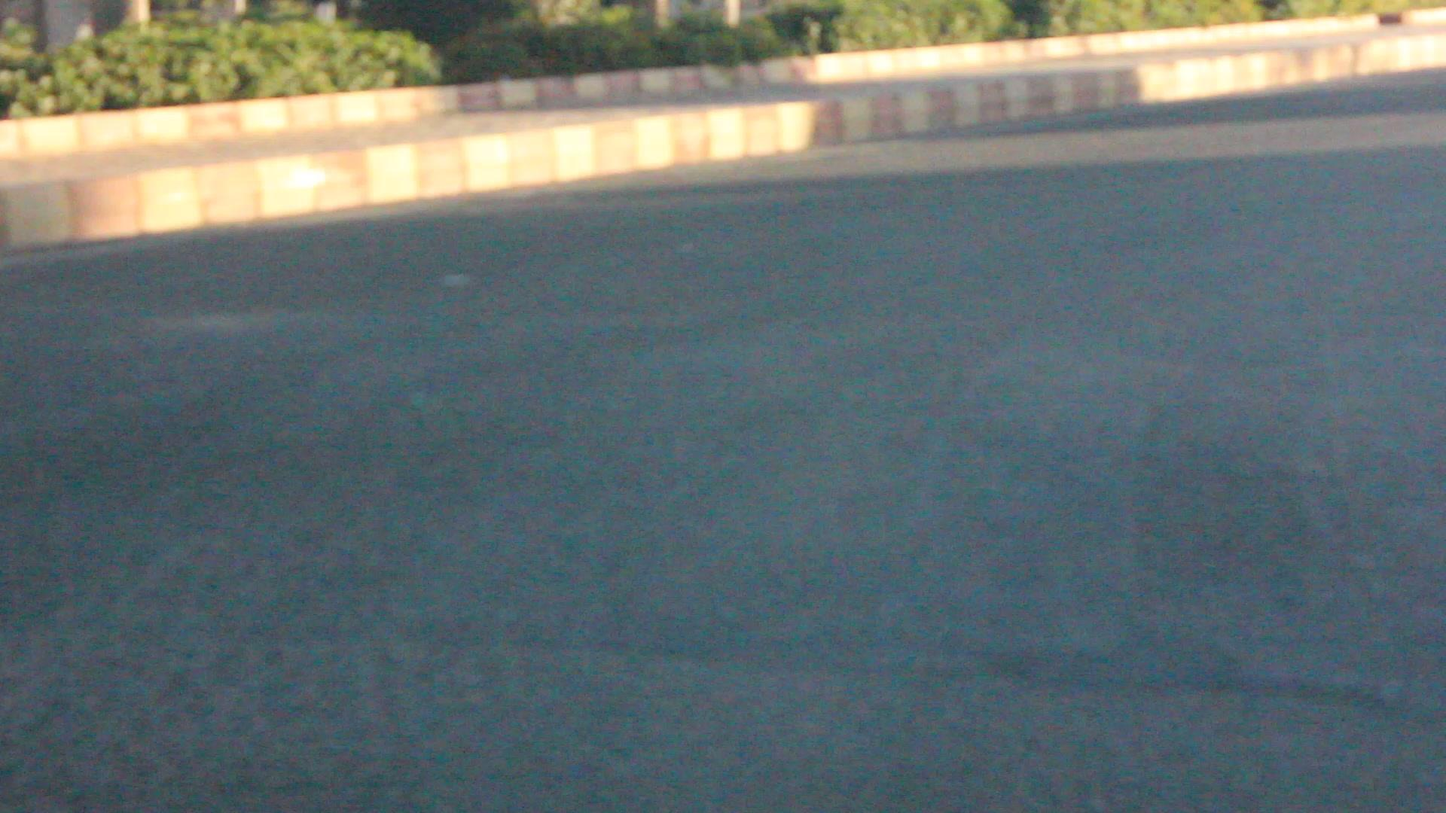Bump: (19, 279, 1446, 685)
